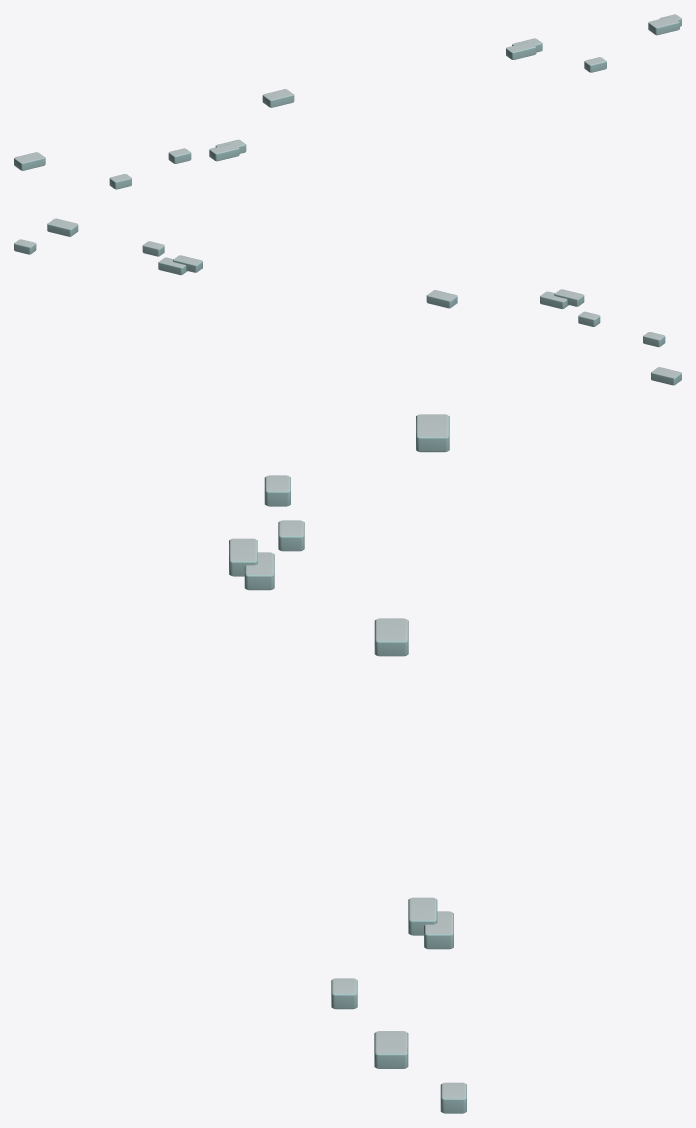
The model's file is W_cloud.fbx.
The picture shows the model from 3 angles, top to bottom: view 1: azimuth 30°, elevation 25°; view 2: azimuth 150°, elevation 25°; view 3: azimuth 270°, elevation 25°; orthographic projection. The views are drawn at different scales.
Visible parts, largest first — view 1: W_cloud_model12; view 2: W_cloud_model12; view 3: W_cloud_model12.
Part boxes in pixels (<box>): W_cloud_model12: <box>14,14,681,189</box>; W_cloud_model12: <box>14,218,681,385</box>; W_cloud_model12: <box>229,414,466,1113</box>.
Size of the model in its own units: 89.66 by 5.48 by 14.07.
1 material, 1 textured.
